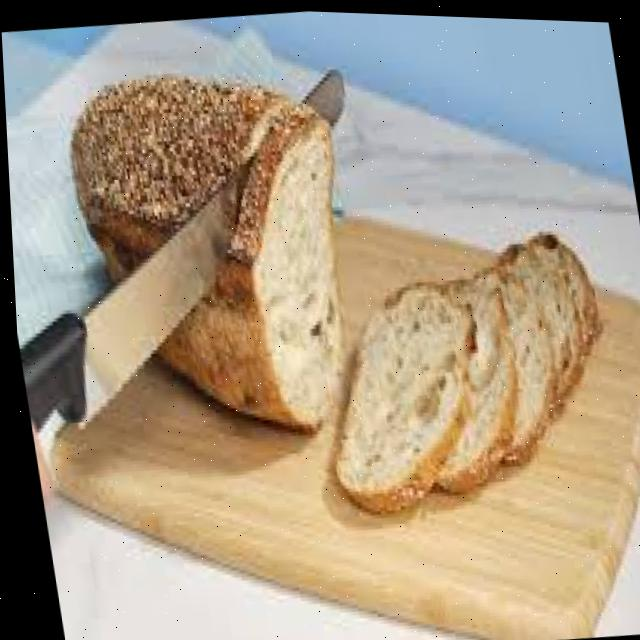Bread: (156, 103, 342, 424), (332, 283, 461, 505), (491, 231, 596, 456), (430, 264, 511, 486)
